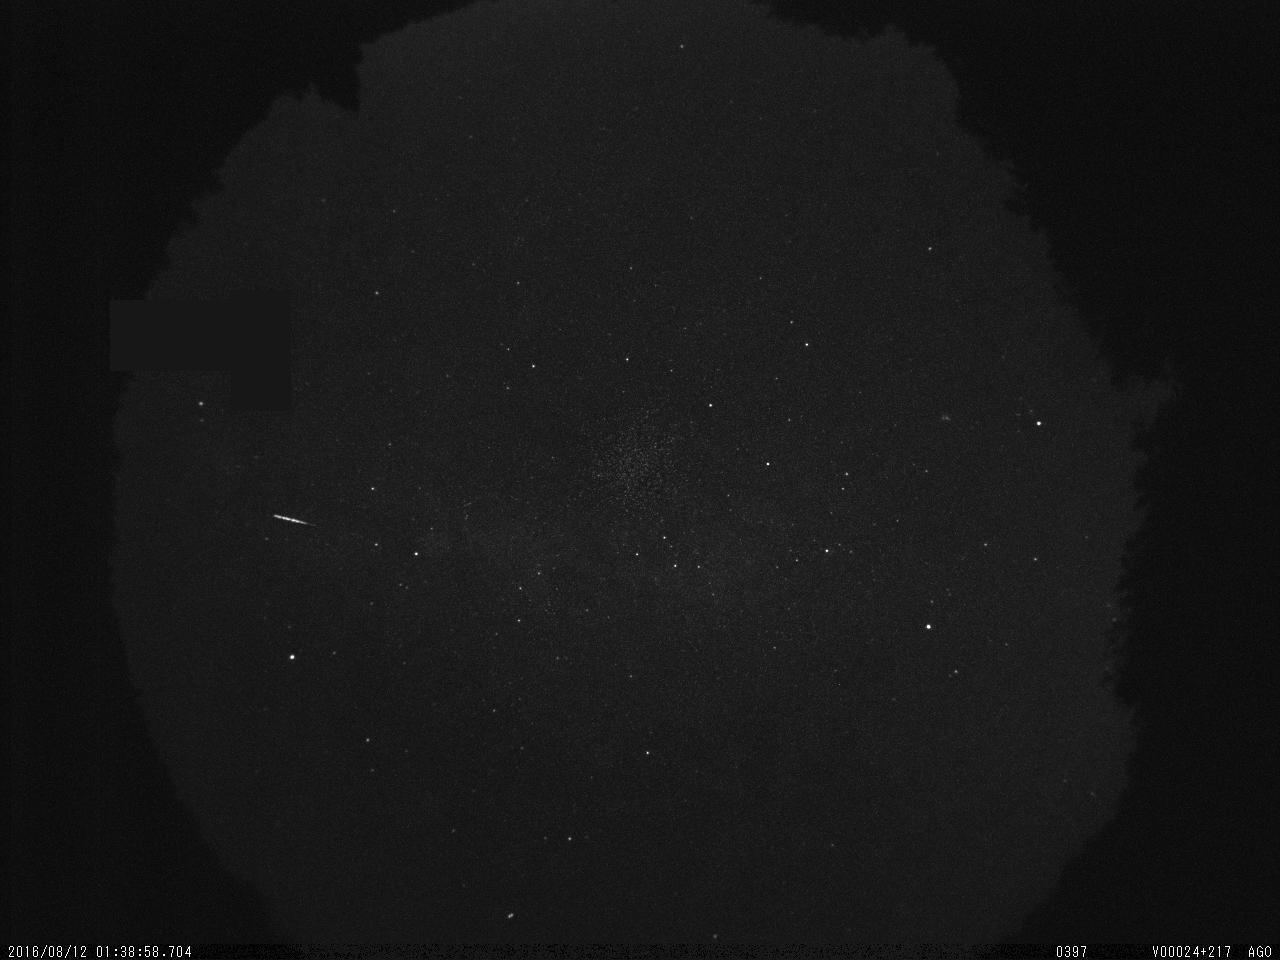meteor: (270, 509, 313, 534)
